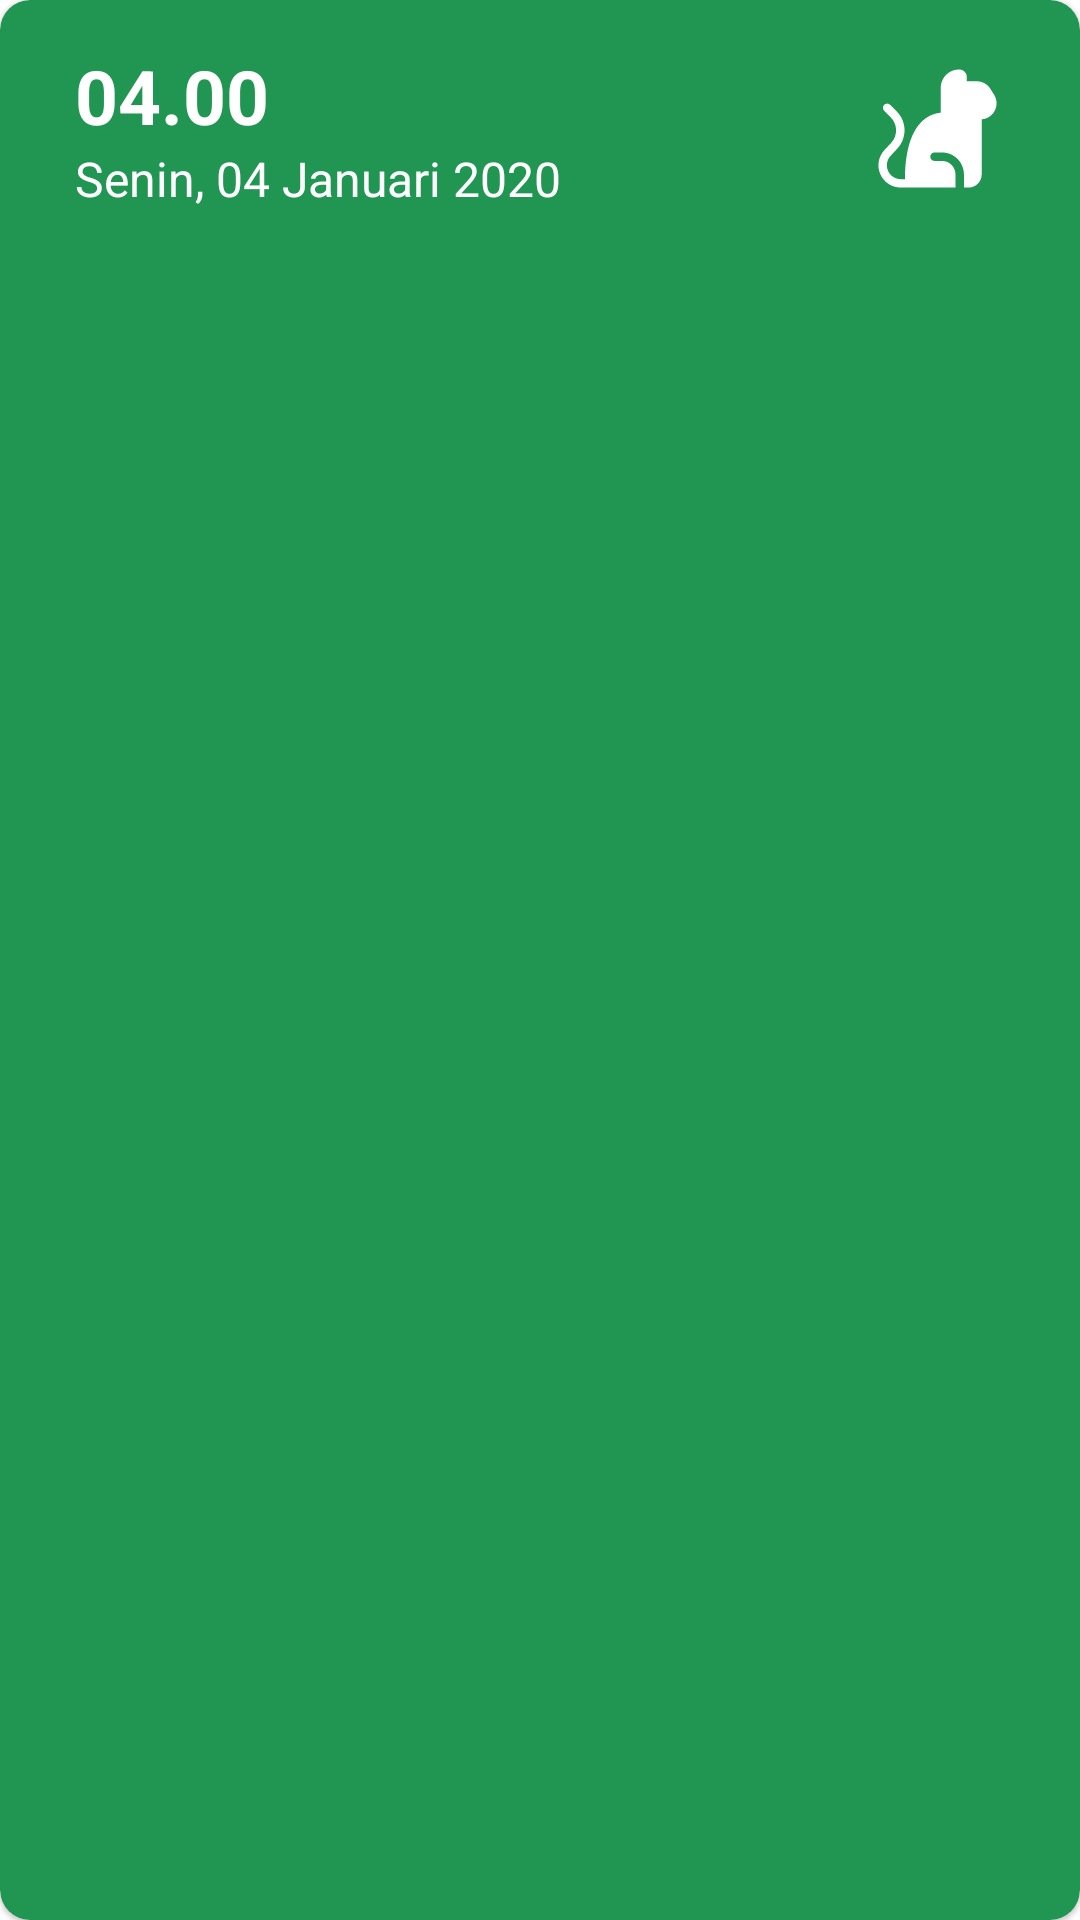

Icons on this 1080w x 1920h Android screen, each with the point to tap as (x,y):
cat: (937,128)
